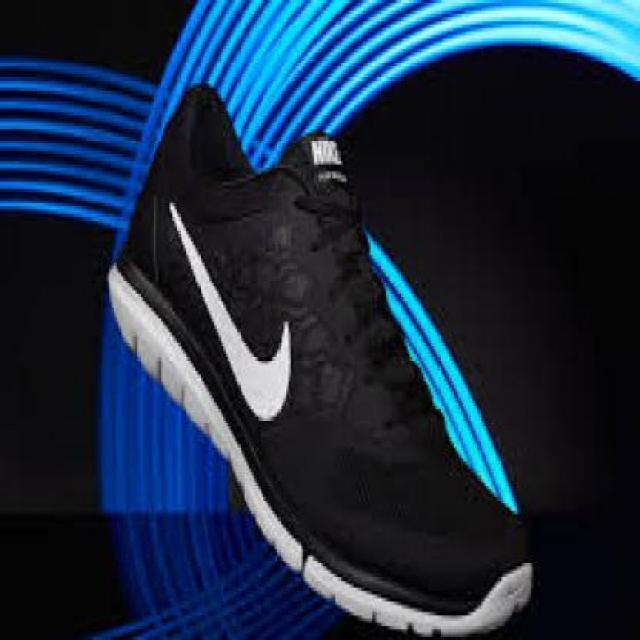Nike: (163, 185, 296, 421)
